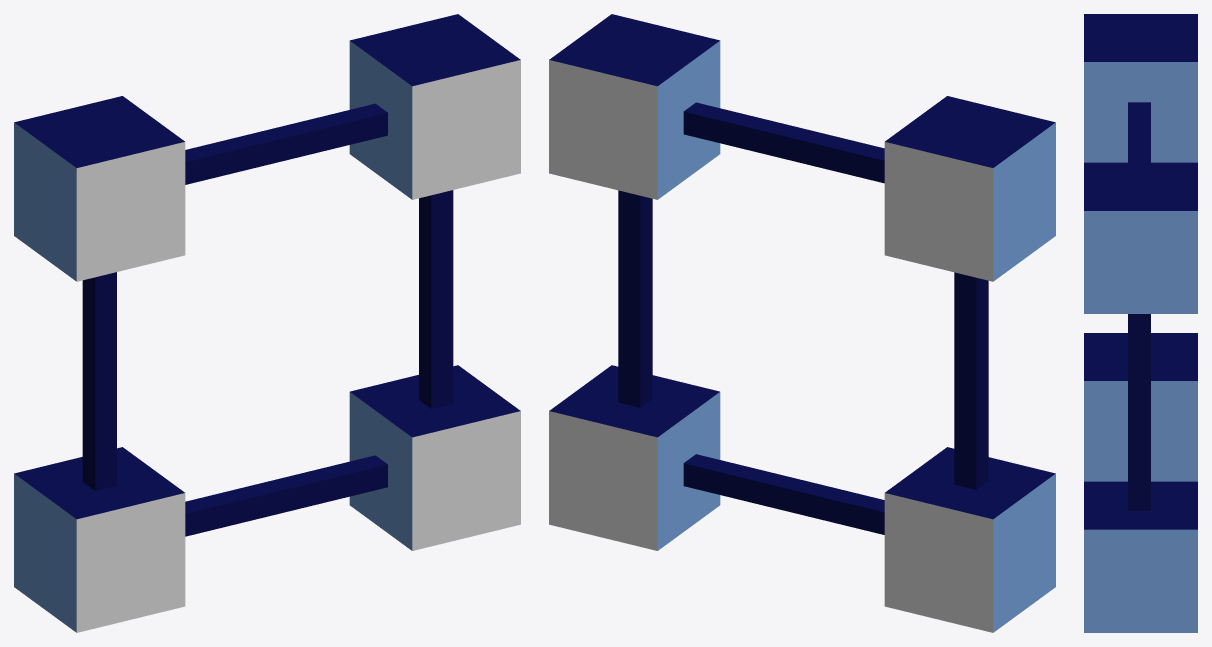
The model's file is blockchain.glb.
The picture shows the model from 3 angles, left to right: view 1: azimuth 30°, elevation 25°; view 2: azimuth 150°, elevation 25°; view 3: azimuth 270°, elevation 25°; orthographic projection. The views are drawn at different scales.
Parts seen in each view (by area): view 1: Cube.003; view 2: Cube.003; view 3: Cube.003.
Part boxes in pixels (box(x1,y1,x2,y2)): Cube.003: box(14, 14, 520, 632); Cube.003: box(549, 14, 1055, 632); Cube.003: box(1084, 14, 1197, 632).
Size of the model in its own units: 0.7941 by 0.7941 by 0.1941.
